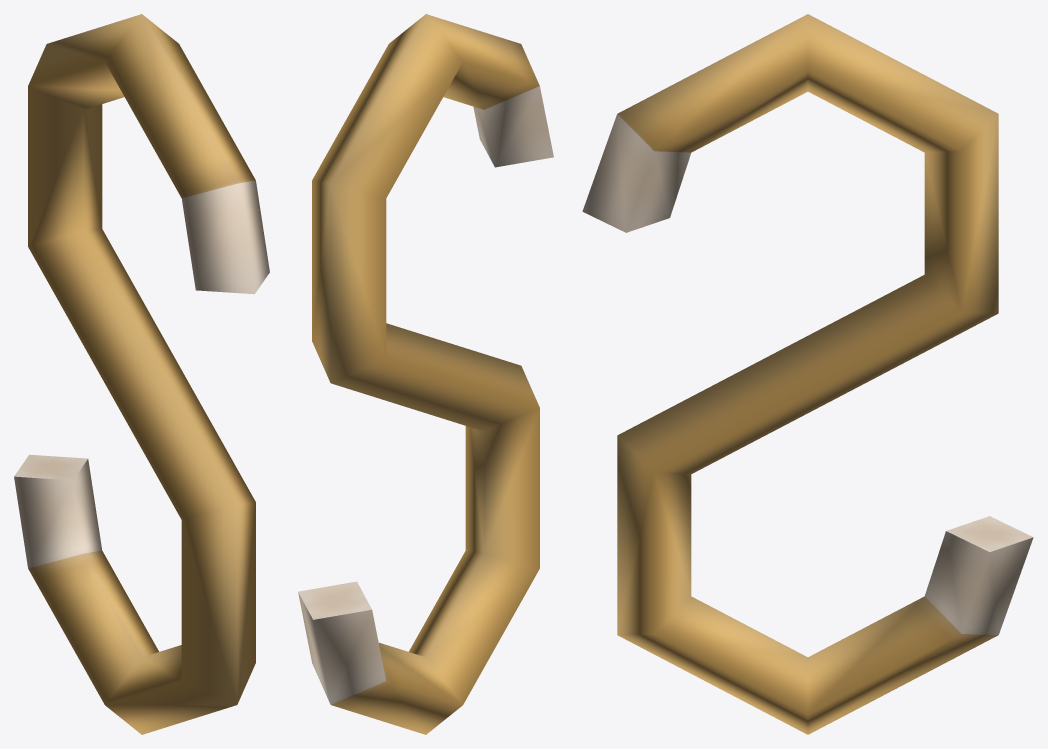
Rendered from jsf_Hook_02.fbx.
3 views of the same model, side by side, from view 1: azimuth 30°, elevation 25°; view 2: azimuth 150°, elevation 25°; view 3: azimuth 270°, elevation 25° (orthographic).
Visible parts, largest first — view 1: jsf_Hook_02; view 2: jsf_Hook_02; view 3: jsf_Hook_02.
Boxes of the visible parts, box(x1,y1,x2,y2) form: jsf_Hook_02: box(14, 14, 269, 734); jsf_Hook_02: box(298, 14, 553, 734); jsf_Hook_02: box(582, 14, 1033, 734).
Bounding box in the file's own units: 0.8753 × 8.13 × 4.61.
